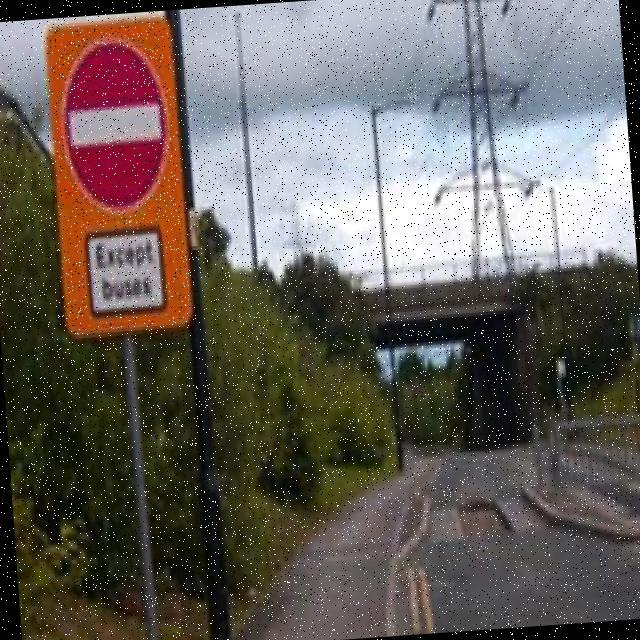Zakaz wjazdu: (54, 34, 173, 216)
